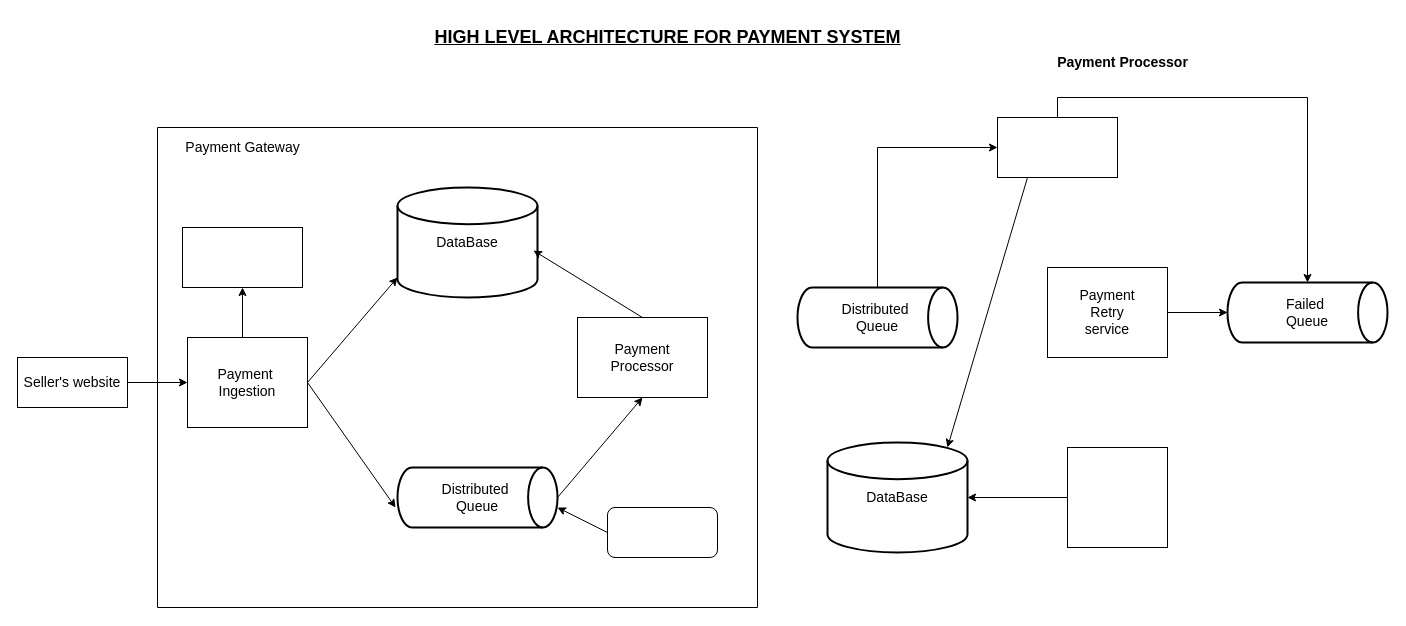
This 1406x626 diagram has some shape labels left out. The shapes that lost their labels are listed below. From the top down, each one's centre as x and y in pixels, then its label:
At (1057,147): "Payment processing service".
At (242,257): "Transaction ID generator".
At (1117,497): "Payment Clearing Service".
At (662,532): "Analytics".
